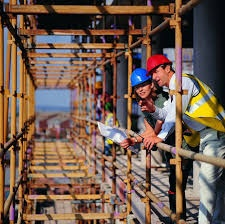blue: (129, 67, 153, 99)
red: (146, 53, 174, 90)
